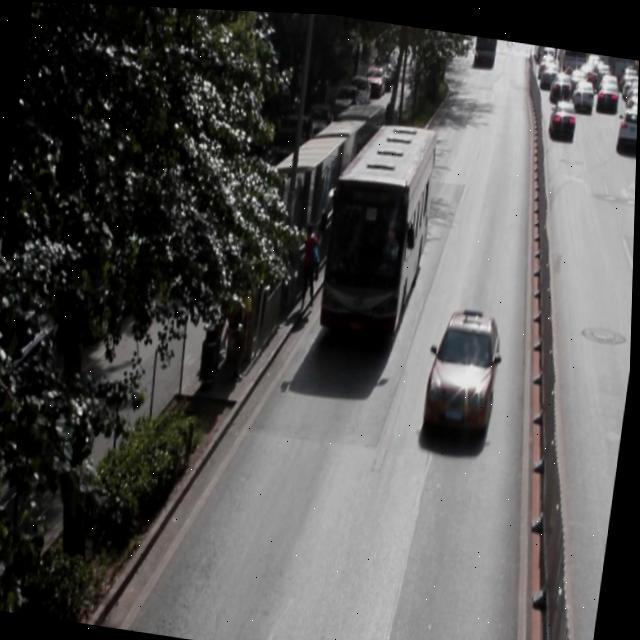car: (422, 300, 503, 432)
van: (318, 112, 437, 336)
